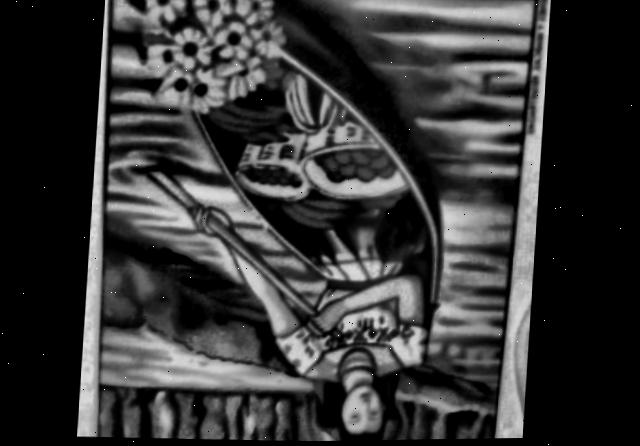La Chalupa: (99, 0, 537, 442)
